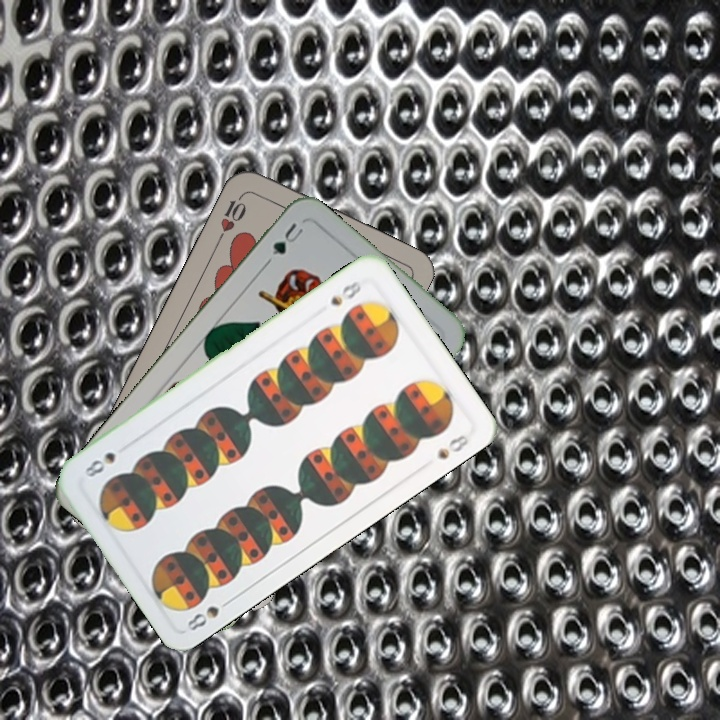GU: (262, 218, 306, 266)
H10: (214, 189, 249, 244)
S8: (182, 594, 236, 634), (326, 276, 364, 309)
